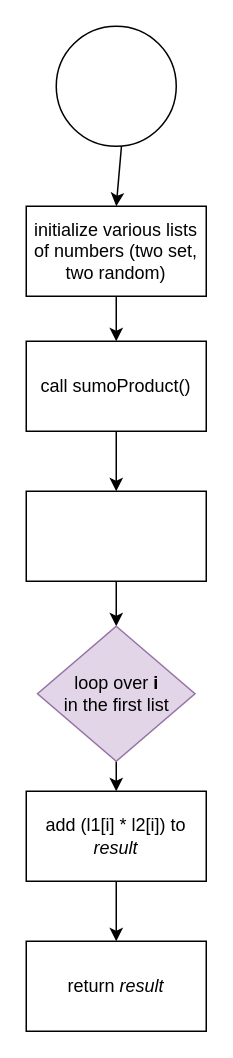
Some shapes in this 233 by 1058 pixel diagram are drawn without their labels. The shapes that lost their labels are listed below. From the top down, each one's box as (x1, y1, x2, y2) in pixels, then its label:
(55, 25, 176, 146): start
(25, 490, 206, 581): initialize empty result variable
